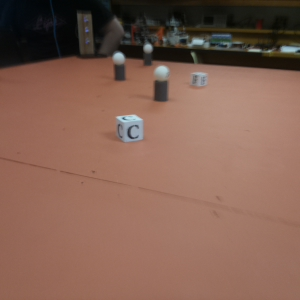blockC: (116, 114, 145, 143)
blockF: (192, 73, 208, 88)
corner: (76, 12, 95, 51)
obstacle: (153, 66, 169, 103), (112, 51, 127, 80), (143, 44, 154, 65)
